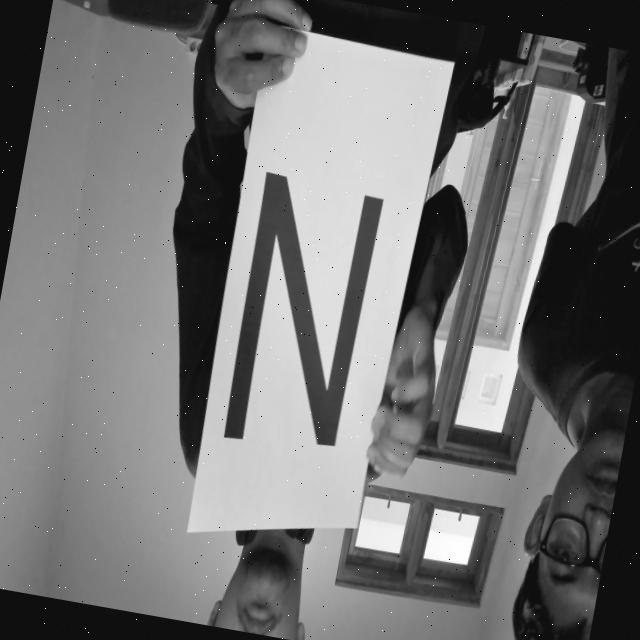n: (208, 144, 395, 476)
